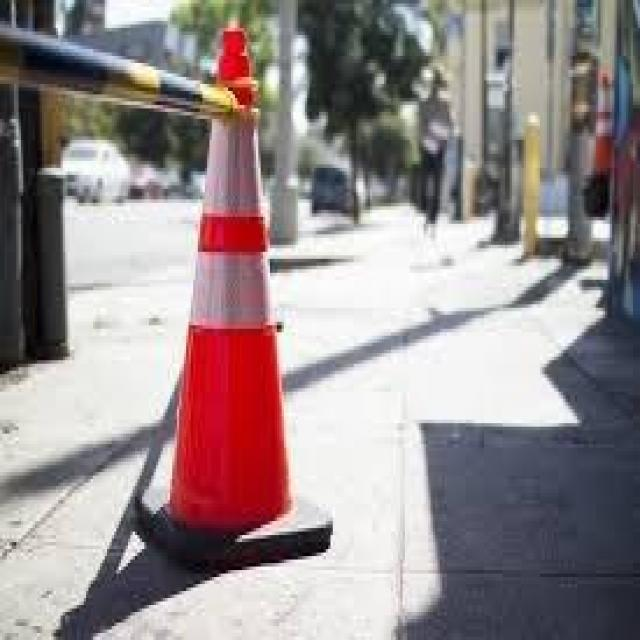Cone: (135, 28, 334, 574)
